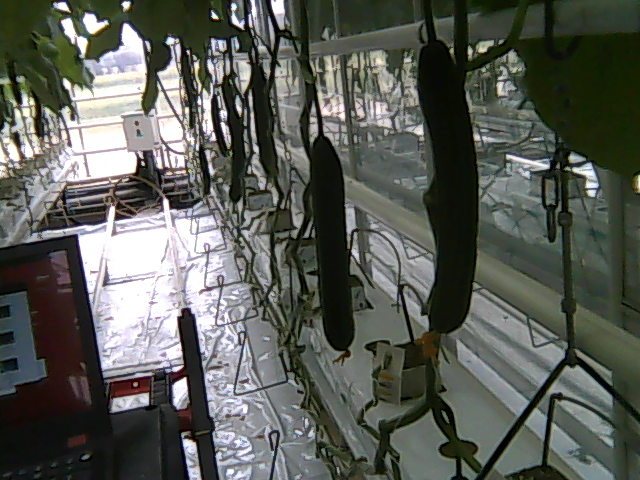concombre: (413, 35, 482, 364), (305, 131, 358, 367)
